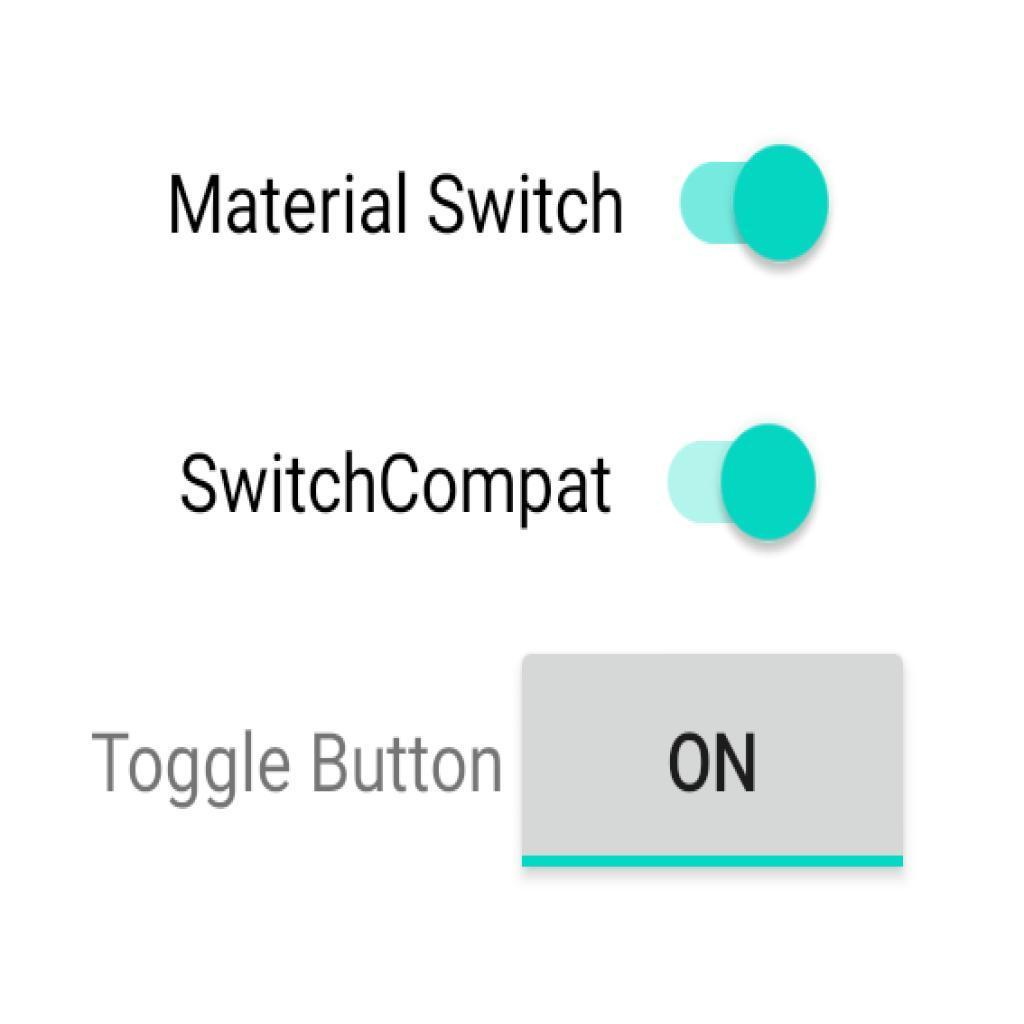button: (524, 652, 902, 856)
label: (87, 707, 505, 820), (161, 161, 642, 252), (177, 445, 618, 538)
switch: (681, 147, 830, 275), (667, 422, 821, 542)
